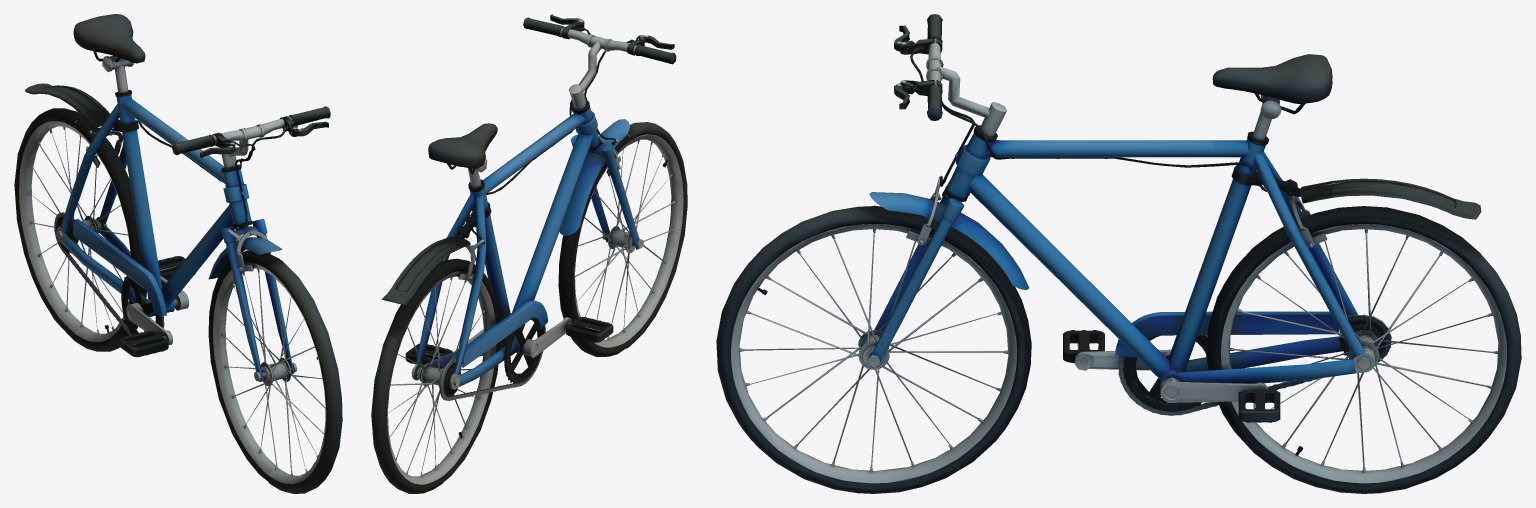
The model's file is bike.gltf.
3 views of the same model, side by side, from view 1: azimuth 30°, elevation 25°; view 2: azimuth 150°, elevation 25°; view 3: azimuth 270°, elevation 25° (orthographic). The views are drawn at different scales.
Visible parts, largest first — view 1: bicycle.1; view 2: bicycle.1; view 3: bicycle.1.
Part boxes in pixels (x1,y1,x2,y2): bicycle.1: (14,14,342,493); bicycle.1: (371,14,687,493); bicycle.1: (716,14,1521,493).
Bounding box in the file's own units: 0.7264 × 1.54 × 2.6.
1 material, 1 textured.
